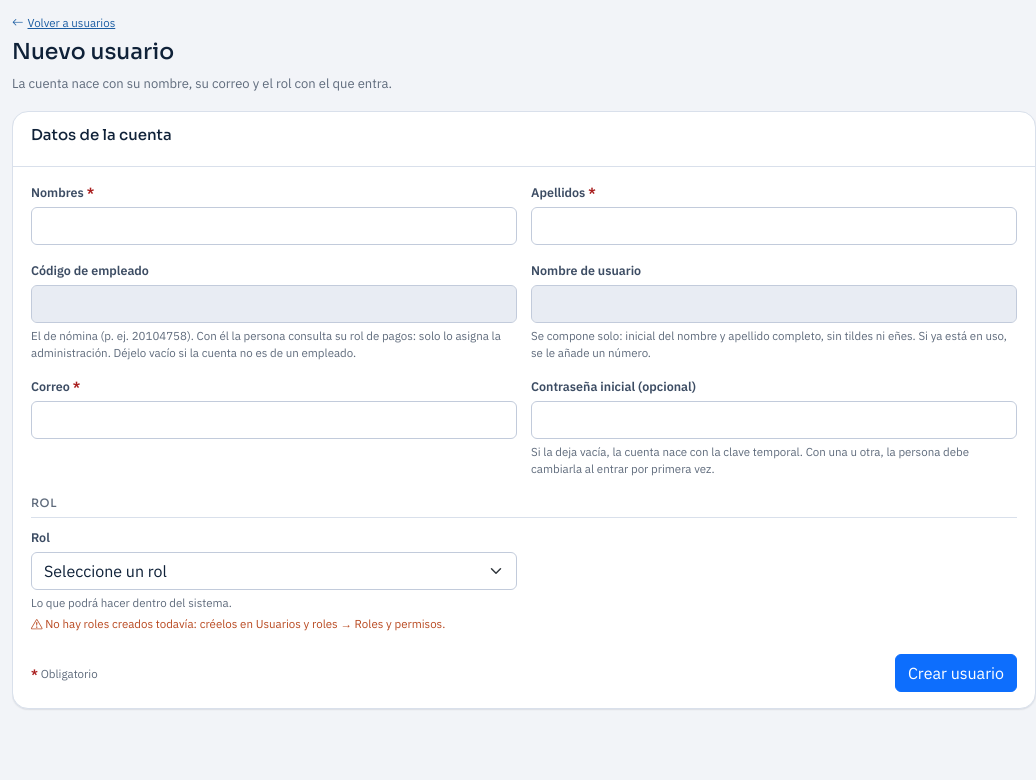
Test: Alta de usuario › muestra el nombre de usuario que le va a tocar, sin tildes ni eñes
This screenshot has width=1036, height=780.
Type "Diego" into the field labelled "Nombres *" at (274, 226), box top-left (31, 207), bottom-right (517, 245)
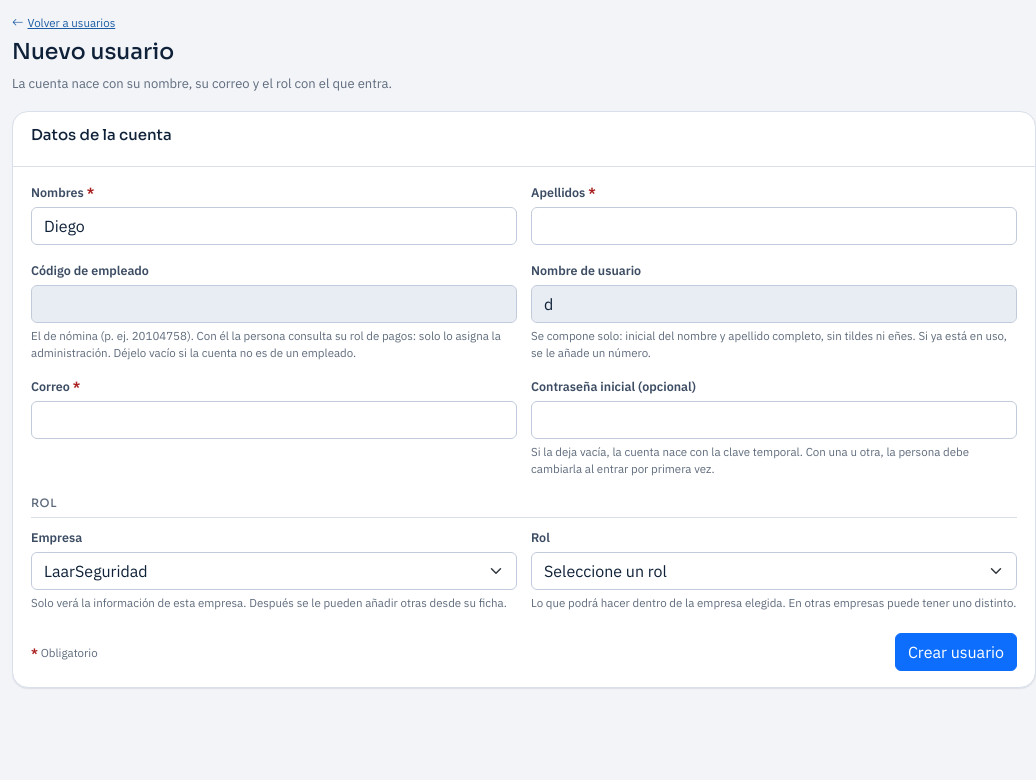
Type "Peñarreta" into the field labelled "Apellidos *" at (774, 226), box top-left (531, 207), bottom-right (1017, 245)
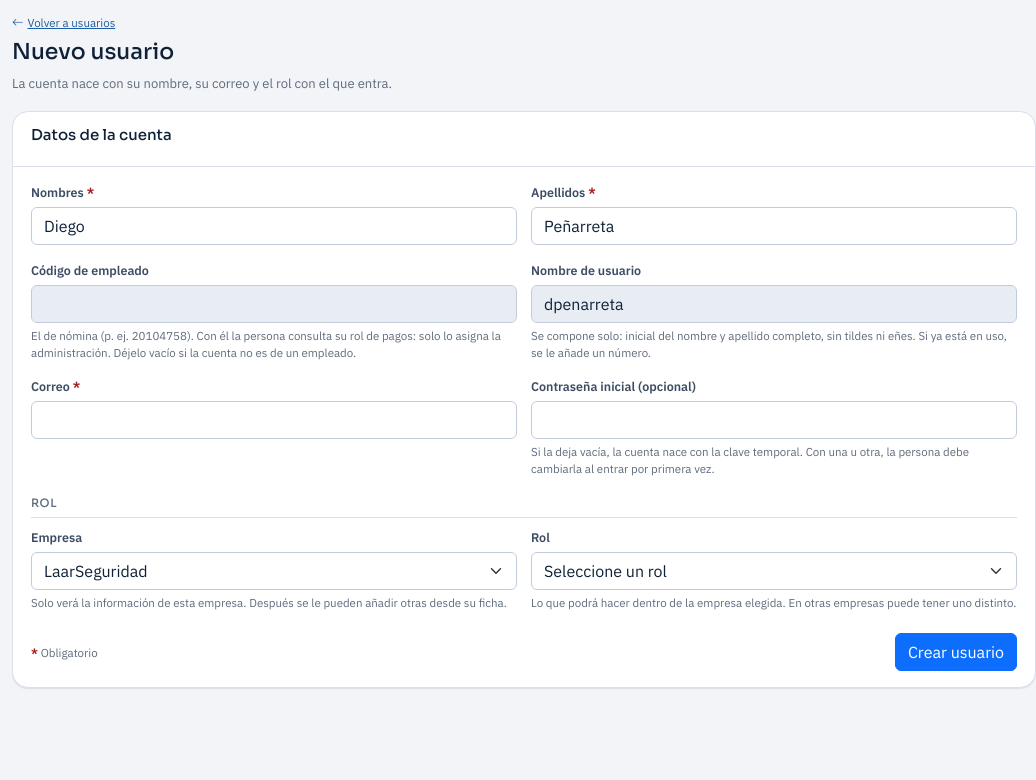
Result: the field labelled "Nombre de usuario" holds "dpenarreta" at top-left (531, 285), bottom-right (1017, 323)
